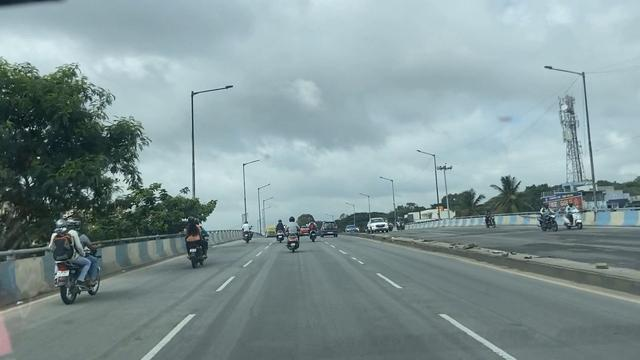LMV: (59, 220, 100, 302), (186, 211, 206, 265), (286, 217, 299, 253), (323, 220, 339, 240), (271, 219, 284, 241), (306, 217, 317, 243), (243, 219, 254, 244)
